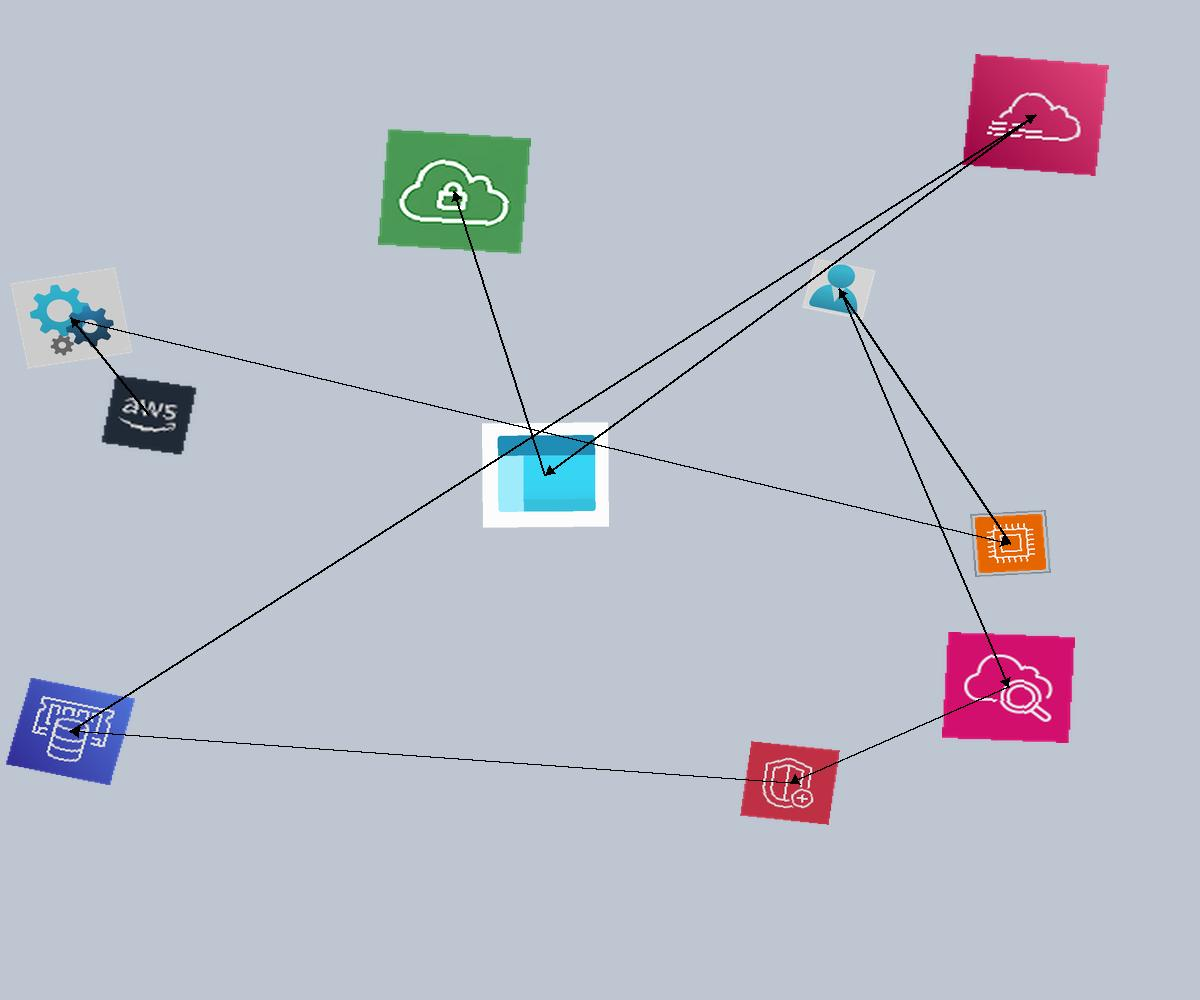AWS-Category_Compute: (970, 510, 1051, 577)
AWS-Cloud-logo: (100, 374, 198, 456)
AWS-CloudTrail: (962, 54, 1109, 176)
AWS-CloudWatch: (942, 632, 1075, 743)
AWS-ElastiCache: (5, 677, 136, 786)
AWS-Private_vpc: (378, 128, 531, 255)
AWS-Shield: (740, 741, 840, 825)
Azure_api: (10, 267, 133, 369)
Azure_management-portal: (482, 422, 609, 528)
Azure_users: (802, 258, 876, 320)
